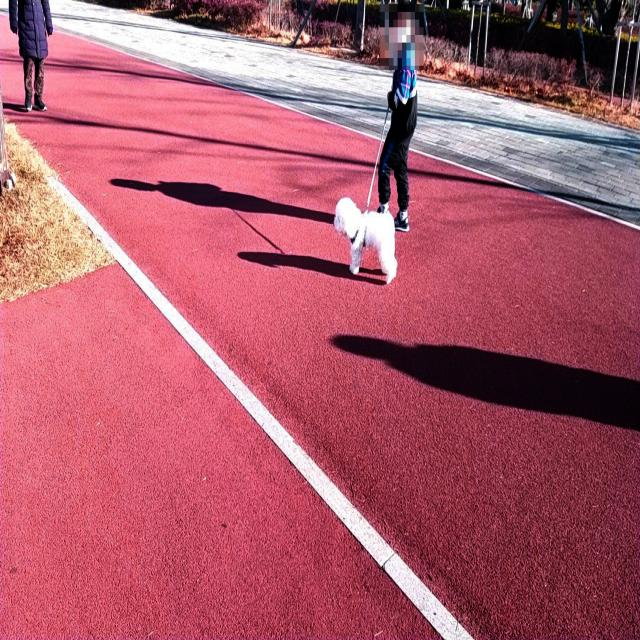Leashed_Dog: (333, 92, 417, 286)
